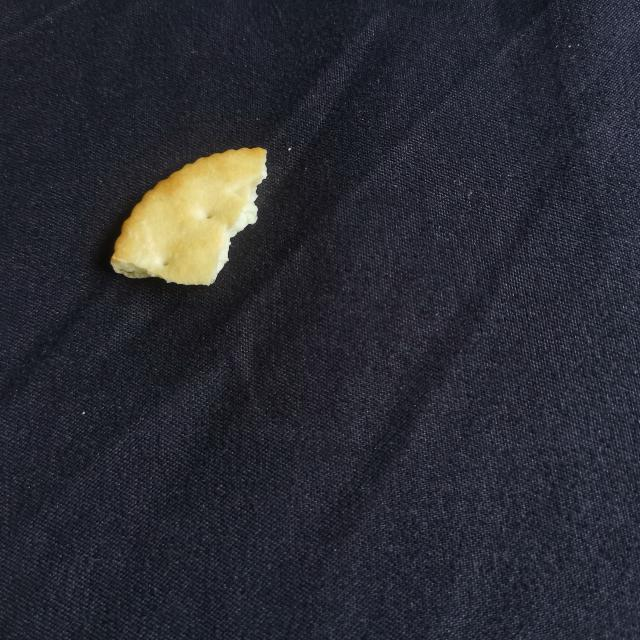Broken: (109, 145, 268, 287)
